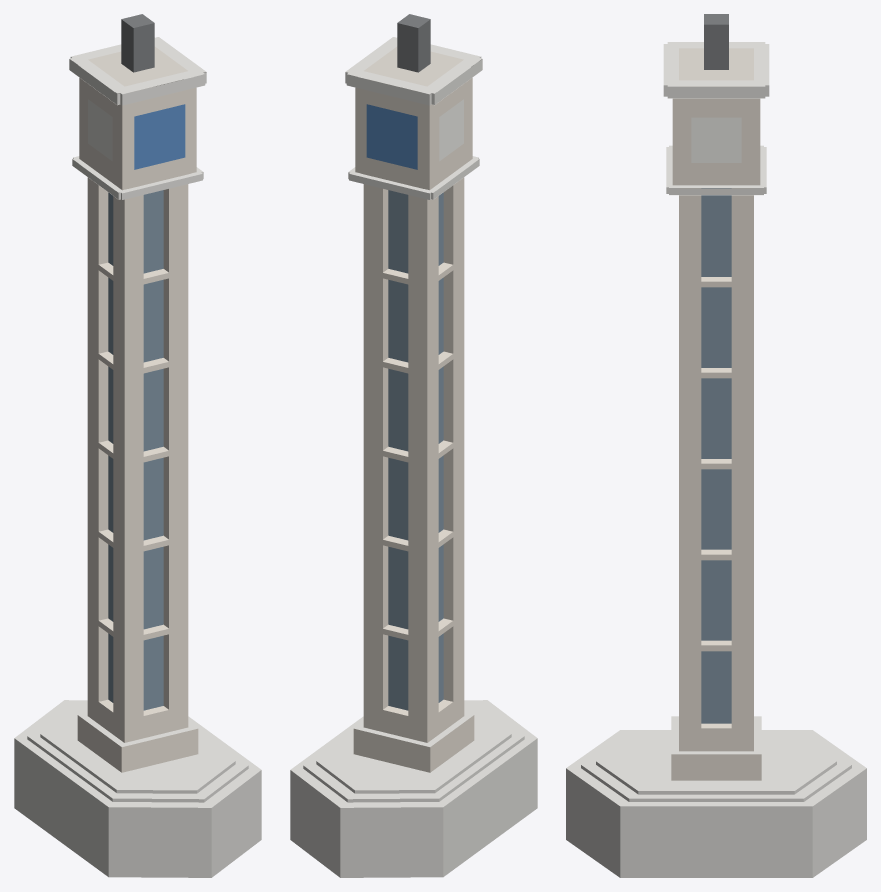
Rendered from Clock_Tower.fbx.
3 views of the same model, side by side, from view 1: azimuth 30°, elevation 25°; view 2: azimuth 150°, elevation 25°; view 3: azimuth 270°, elevation 25° (orthographic). The views are drawn at different scales.
Parts seen in each view (by area): view 1: Clock_Tower; view 2: Clock_Tower; view 3: Clock_Tower.
Part boxes in pixels (box(x1,y1,x2,y2)): Clock_Tower: box(14, 14, 261, 877); Clock_Tower: box(290, 14, 537, 877); Clock_Tower: box(566, 14, 866, 877).
Bounding box in the file's own units: 7.2 × 36.1 × 12.
